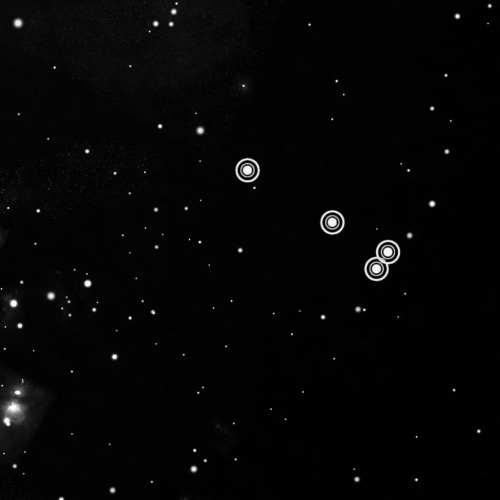sagitta: (226, 149, 406, 287)
